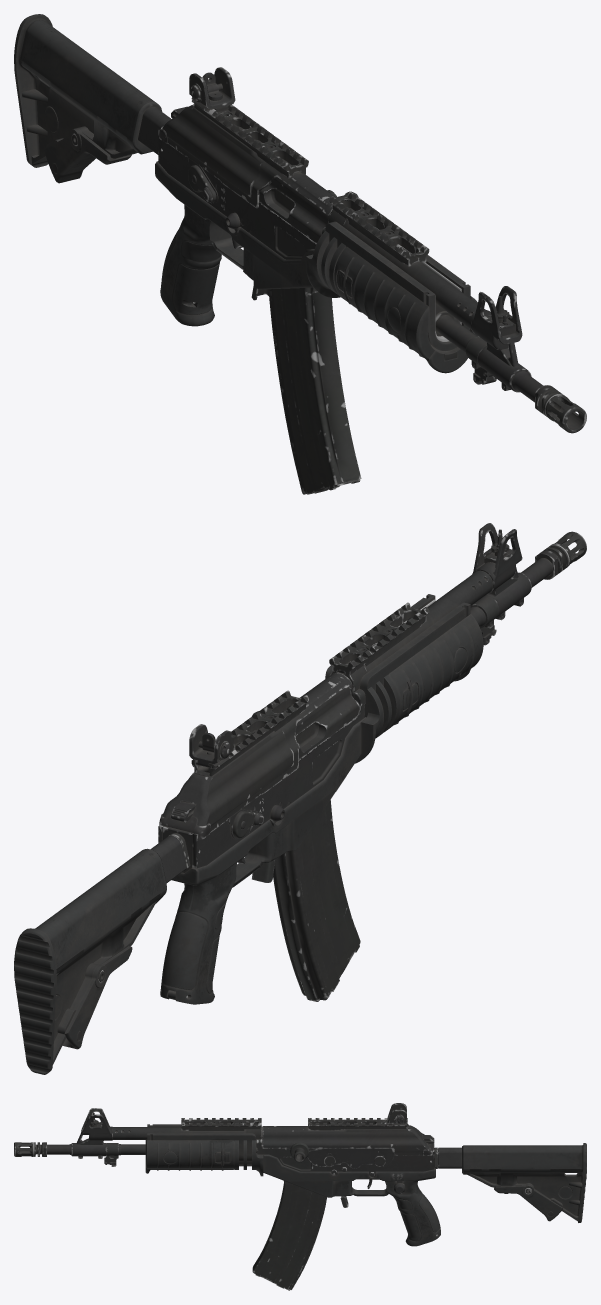
File: GalilAr_CS2.fbx
The picture shows the model from 3 angles, top to bottom: view 1: azimuth 30°, elevation 25°; view 2: azimuth 150°, elevation 25°; view 3: azimuth 270°, elevation 25°; orthographic projection. The views are drawn at different scales.
Parts seen in each view (by area): view 1: GalilAr_CS2; view 2: GalilAr_CS2; view 3: GalilAr_CS2.
Boxes of the visible parts, x1,y1,x2,y2 form: GalilAr_CS2: (14,14,586,494); GalilAr_CS2: (14,523,586,1074); GalilAr_CS2: (14,1103,586,1290).
Bounding box in the file's own units: 7.13 × 27.45 × 78.25.
